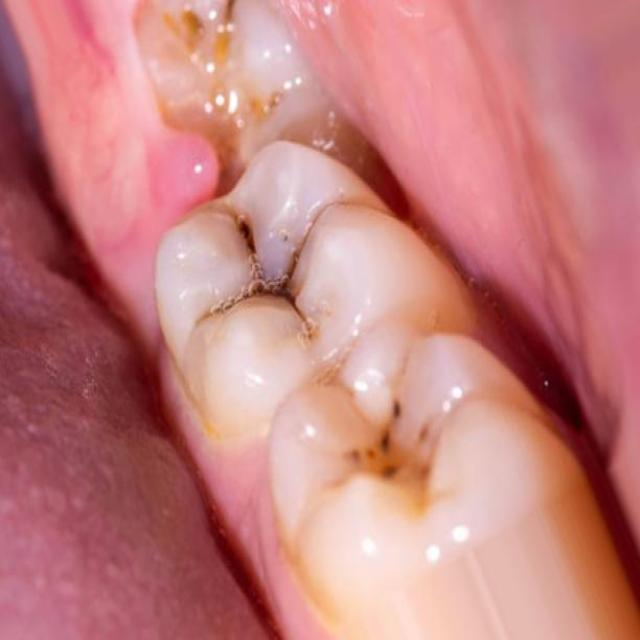caries: (318, 372, 460, 529), (197, 195, 342, 342), (158, 0, 283, 115)
